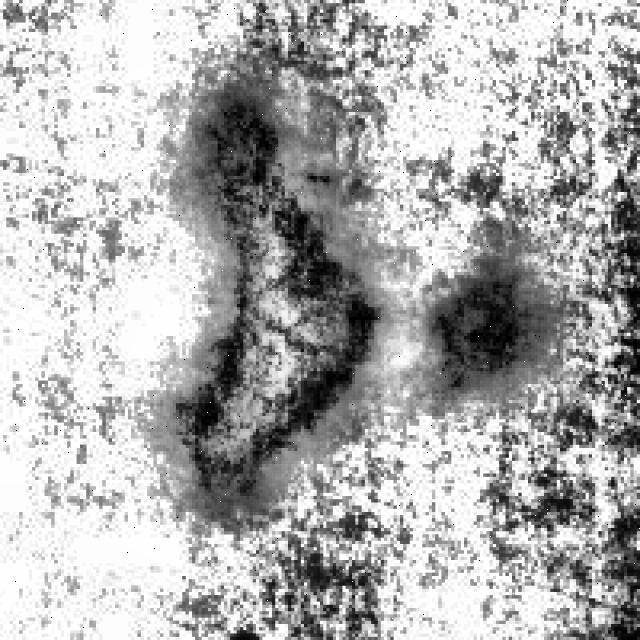Scratches: (170, 84, 393, 518), (422, 252, 560, 388)
